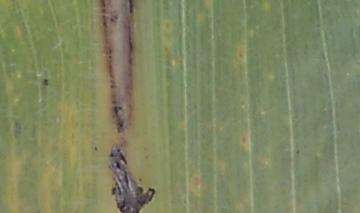tarspot: (135, 184, 155, 213), (114, 194, 126, 213), (12, 119, 23, 139), (123, 168, 131, 190), (118, 152, 128, 166), (128, 1, 135, 15), (117, 118, 124, 130), (92, 144, 101, 153), (42, 77, 50, 87), (292, 147, 301, 155), (112, 104, 118, 116), (115, 160, 122, 170), (110, 186, 117, 196), (240, 135, 247, 144), (108, 151, 114, 159), (137, 176, 143, 184), (237, 51, 243, 58), (116, 147, 121, 153), (117, 105, 122, 111), (113, 14, 118, 20), (109, 16, 114, 22)
